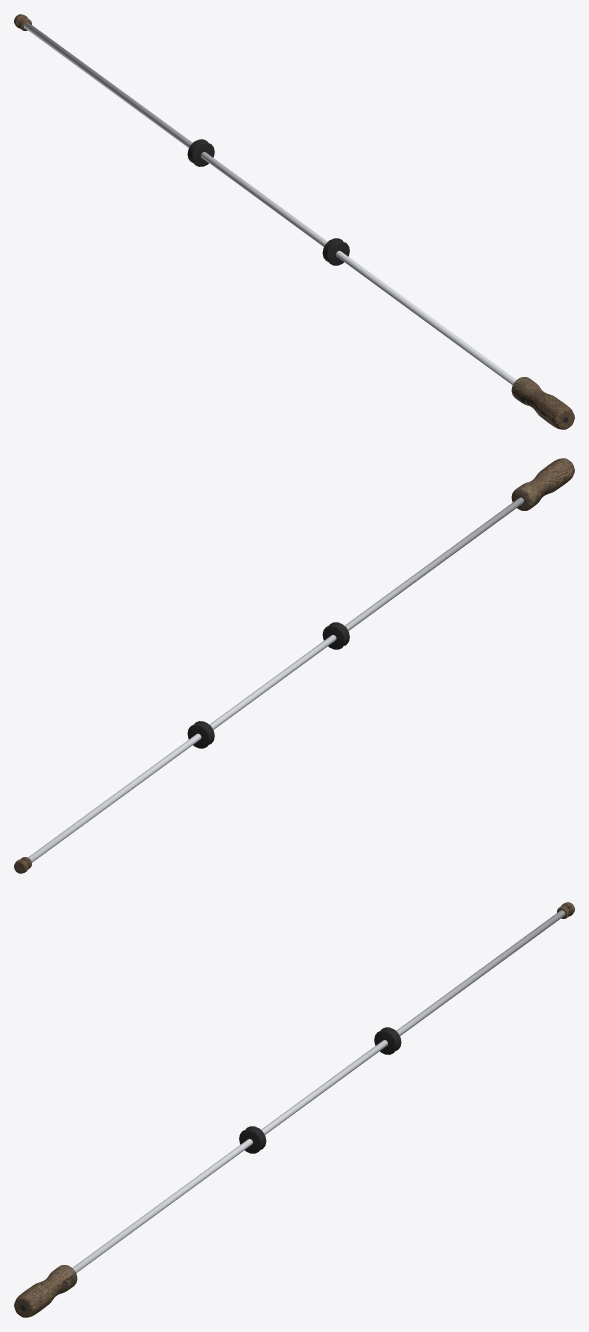
File: fuzeball_rod_2man.glb
3 views of the same model, one above another, from view 1: azimuth 30°, elevation 25°; view 2: azimuth 150°, elevation 25°; view 3: azimuth 330°, elevation 25° (orthographic).
Visible parts, largest first — view 1: rod2_bar.003, rod2_handle.wood; view 2: rod2_bar.003, rod2_handle.wood; view 3: rod2_bar.003, rod2_handle.wood.
Boxes of the visible parts, x1,y1,x2,y2 form: rod2_bar.003: (23,22,516,385); rod2_handle.wood: (511,377,574,429); rod2_bar.003: (28,497,524,862); rod2_handle.wood: (511,458,574,510); rod2_bar.003: (72,910,565,1273); rod2_handle.wood: (14,1265,77,1317).
Bounding box in the file's own units: 3.02 × 3.02 × 125.
4 materials, 1 textured.
